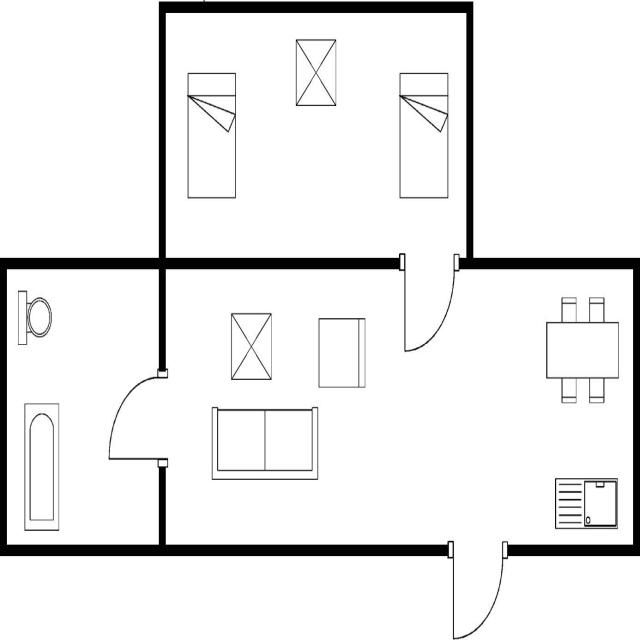bed: (396, 66, 450, 202), (185, 67, 238, 203)
coffee_table: (227, 306, 274, 384), (292, 34, 340, 109)
dining_table: (542, 292, 620, 408)
large_sink: (14, 284, 53, 350)
large_sofa: (207, 403, 321, 485)
sink: (552, 473, 620, 532)
small_sofa: (316, 312, 367, 393)
tub: (20, 398, 61, 536)
